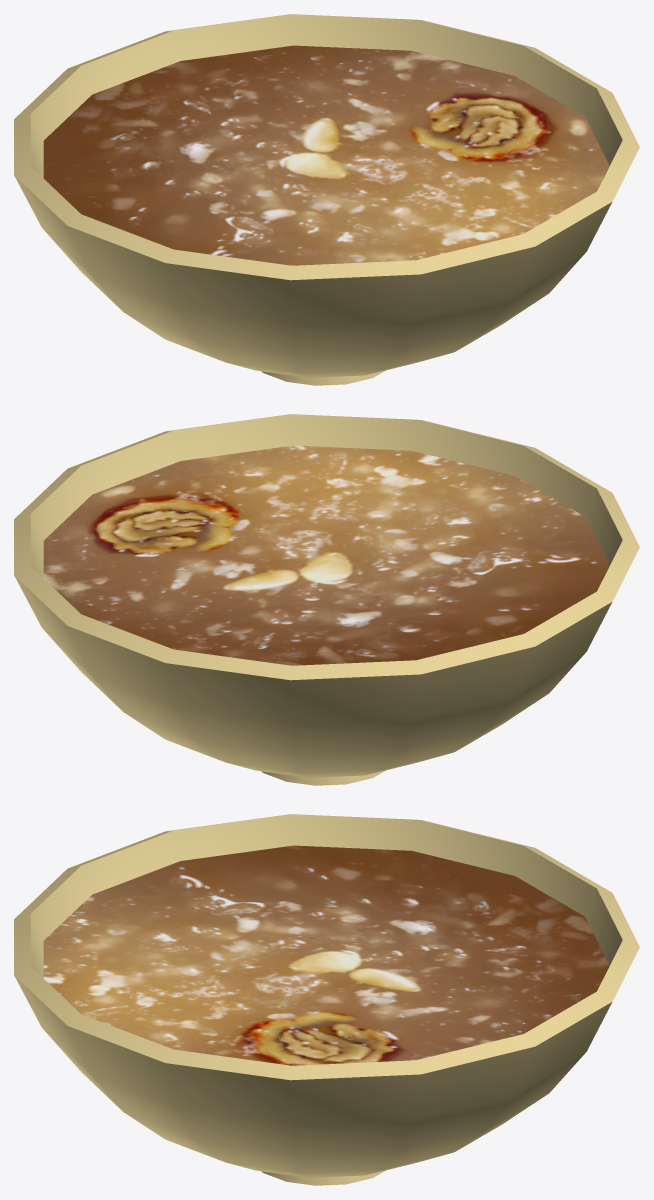
The model's file is SikHye.fbx.
The picture shows the model from 3 angles, top to bottom: view 1: azimuth 30°, elevation 25°; view 2: azimuth 150°, elevation 25°; view 3: azimuth 270°, elevation 25°; orthographic projection.
Parts seen in each view (by area): view 1: SikHye, Dish; view 2: SikHye, Dish; view 3: SikHye, Dish.
Part boxes in pixels (x1,y1,x2,y2): SikHye: (43, 45, 609, 265); Dish: (14, 14, 639, 385); SikHye: (43, 445, 609, 665); Dish: (14, 414, 639, 785); SikHye: (43, 845, 609, 1065); Dish: (14, 814, 639, 1185).
Bounding box in the file's own units: 133 × 51.68 × 132.
2 materials, 1 textured.
